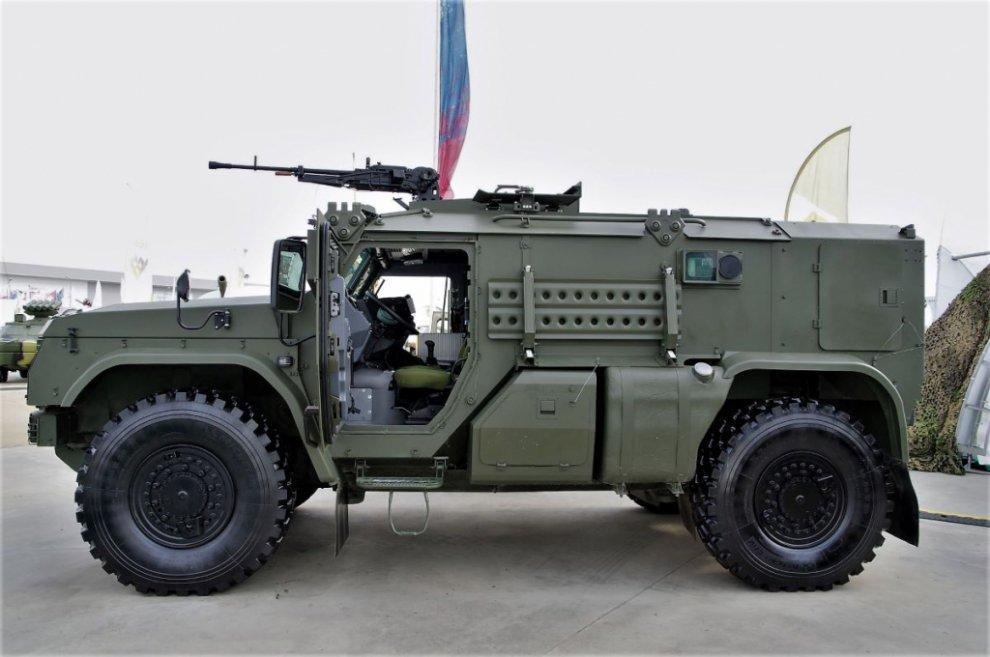armored_car: (23, 98, 928, 602)
